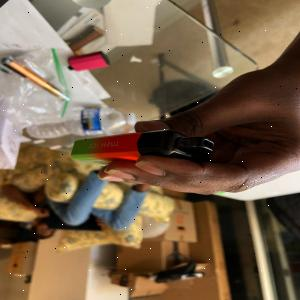Swift-E-Ciggirate: (66, 129, 218, 161)
